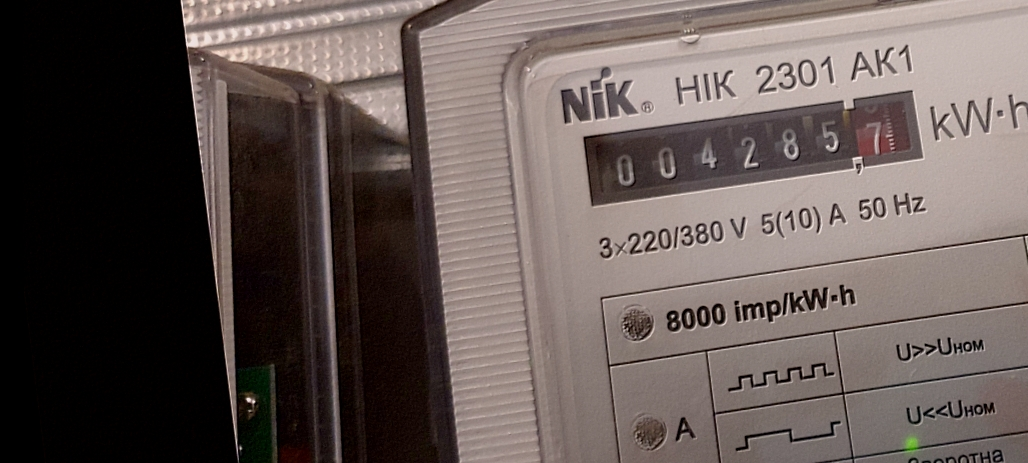0: (655, 142, 681, 181), (613, 150, 638, 188)
2: (738, 132, 761, 170)
4: (698, 134, 719, 171)
5: (818, 116, 843, 154)
7: (863, 118, 887, 156)
8: (777, 124, 803, 163)
screen: (566, 77, 941, 220)
